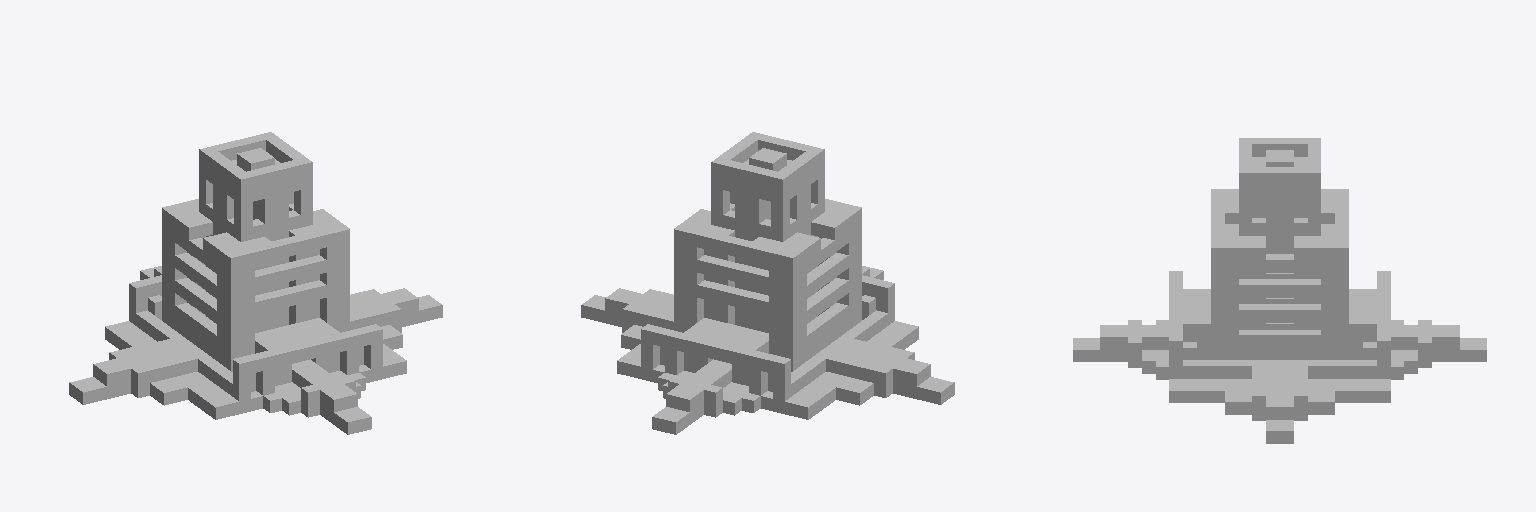
Rendered from Tower 2.obj.
3 renders of one model, left to right at view 1: azimuth 30°, elevation 25°; view 2: azimuth 150°, elevation 25°; view 3: azimuth 270°, elevation 25°, orthographic.
Visible parts, largest first — view 1: object 1; view 2: object 1; view 3: object 1.
Boxes of the visible parts, <box> form: object 1: <box>69,132,442,434</box>; object 1: <box>581,132,954,434</box>; object 1: <box>1073,138,1486,443</box>.
Size of the model in its own units: 3 by 1.6 by 3.